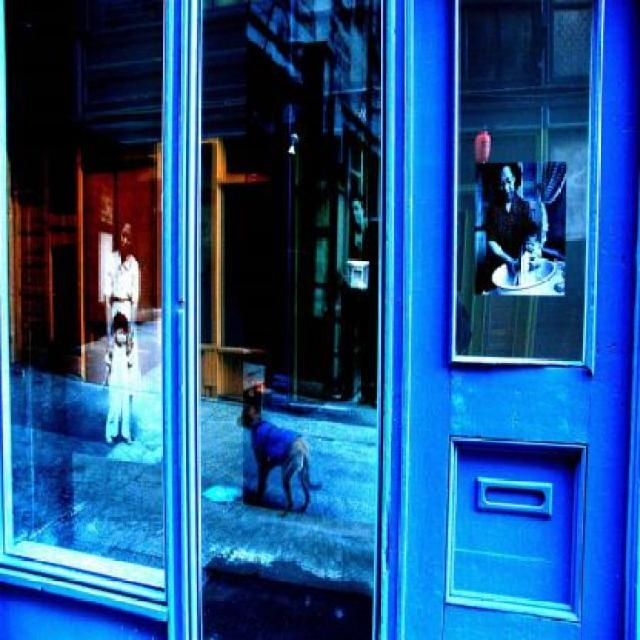obstacle: (332, 191, 379, 411), (101, 218, 141, 440), (484, 160, 534, 291), (512, 222, 542, 286)
